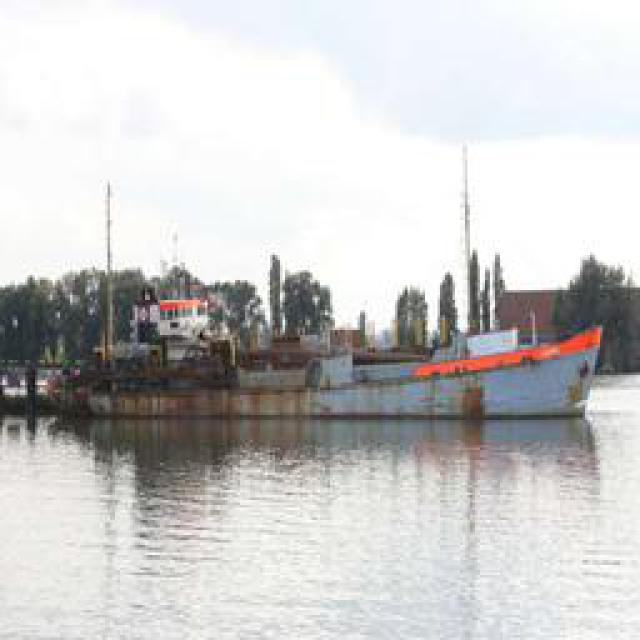Ship: (36, 271, 611, 426)
